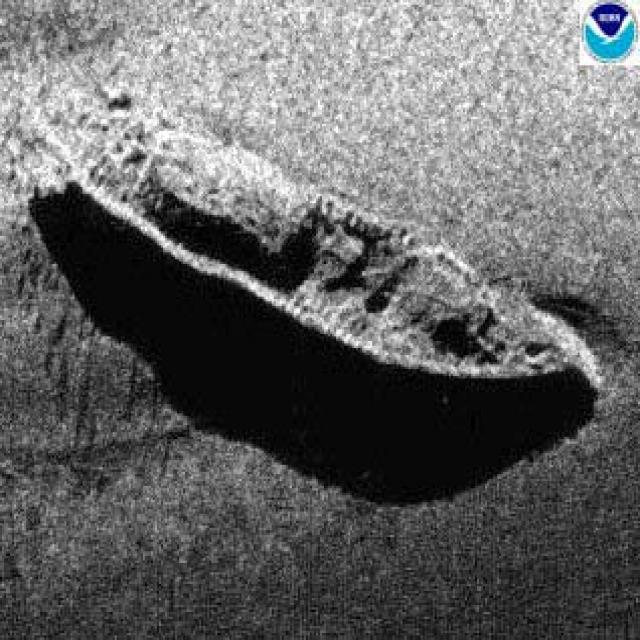ship: (62, 117, 584, 381)
